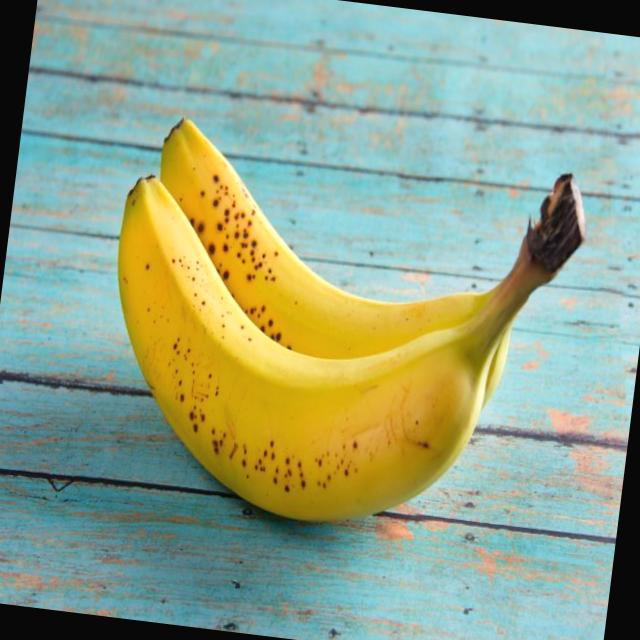banana: (76, 174, 504, 564), (112, 101, 505, 431)
